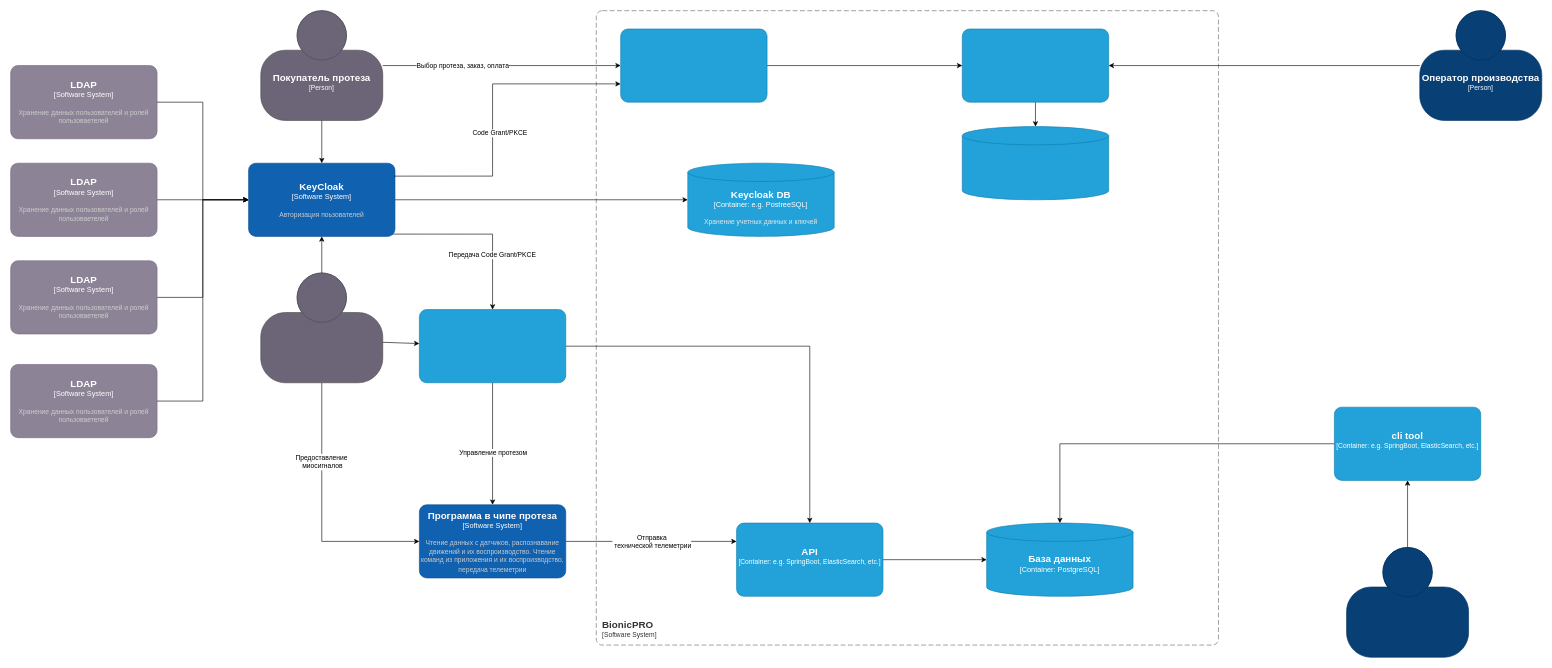
Some shapes in this 1552 by 668 pixel diagram are drawn without their labels. Here are the shapes that lost their labels. From the top down, the centre of each, then its label:
point (693, 65): Интернет-магазин [Container: Битрикс24]
point (1035, 65): CRM [Container: Битрикс24]
point (1035, 163): CRM DB [Container: e.g. Oracle Database 12]
point (321, 327): Пилот протеза [Person] С этого человека считываются данные
point (492, 346): Приложение для донастройки протеза [Container: iOD, Android]
point (1407, 602): ML-инженер [Person]
